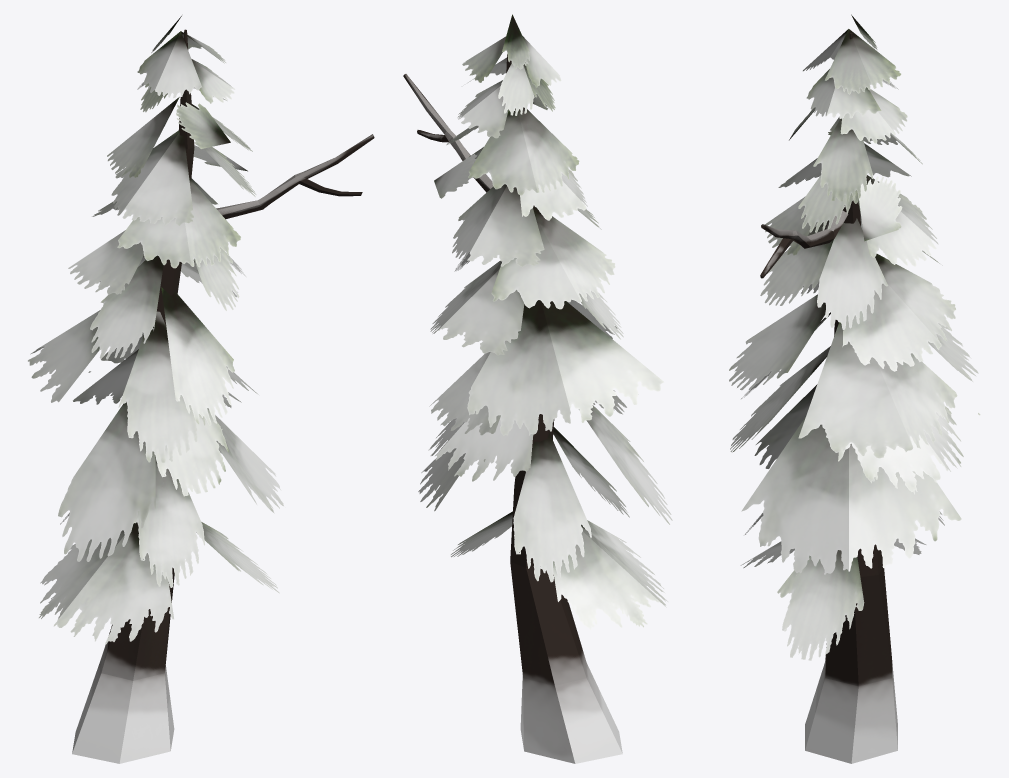
File: Tree2.FBX
The picture shows the model from 3 angles, left to right: view 1: azimuth 30°, elevation 25°; view 2: azimuth 150°, elevation 25°; view 3: azimuth 270°, elevation 25°; orthographic projection. The views are drawn at different scales.
Parts seen in each view (by area): view 1: Object001; view 2: Object001; view 3: Object001.
Part boxes in pixels (box(x1,y1,x2,y2)): Object001: box(28, 16, 374, 763); Object001: box(403, 14, 672, 763); Object001: box(729, 14, 980, 763).
Size of the model in its own units: 162 by 355 by 123.
1 material, 1 textured.
